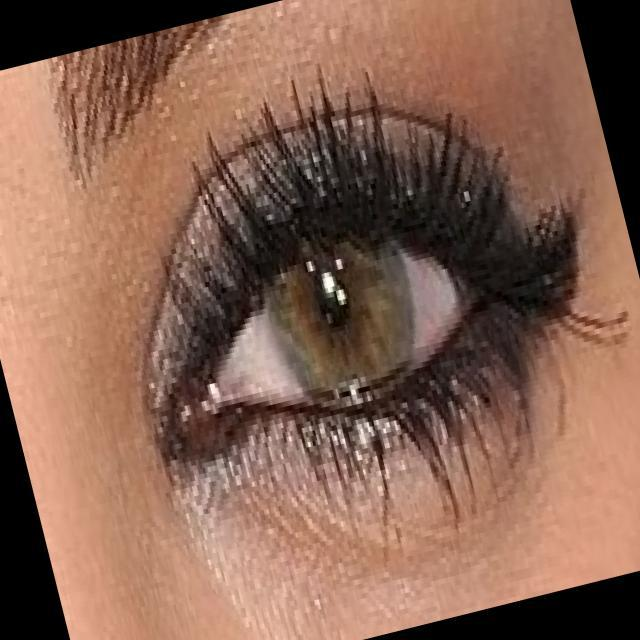Normal: (115, 94, 613, 539)
